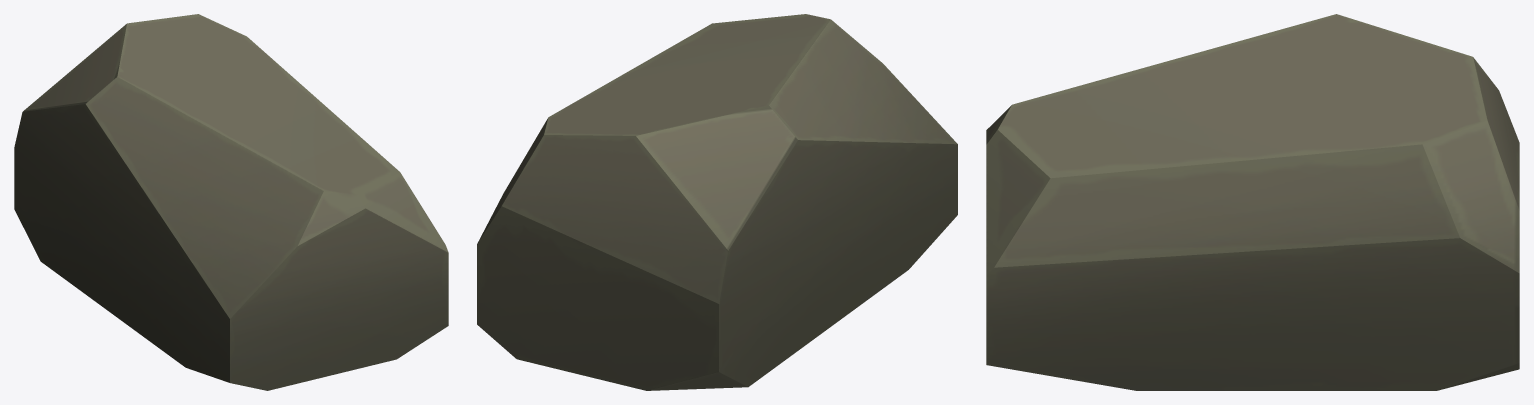
File: Rock7.fbx
3 views of the same model, side by side, from view 1: azimuth 30°, elevation 25°; view 2: azimuth 150°, elevation 25°; view 3: azimuth 270°, elevation 25° (orthographic). The views are drawn at different scales.
Visible parts, largest first — view 1: Cube.006; view 2: Cube.006; view 3: Cube.006.
Part boxes in pixels (box(x1,y1,x2,y2)): Cube.006: box(14, 14, 448, 390); Cube.006: box(477, 14, 957, 390); Cube.006: box(986, 14, 1519, 390).
Size of the model in its own units: 93.56 by 86.9 by 160.
Materials: 1 (1 with a texture image).
